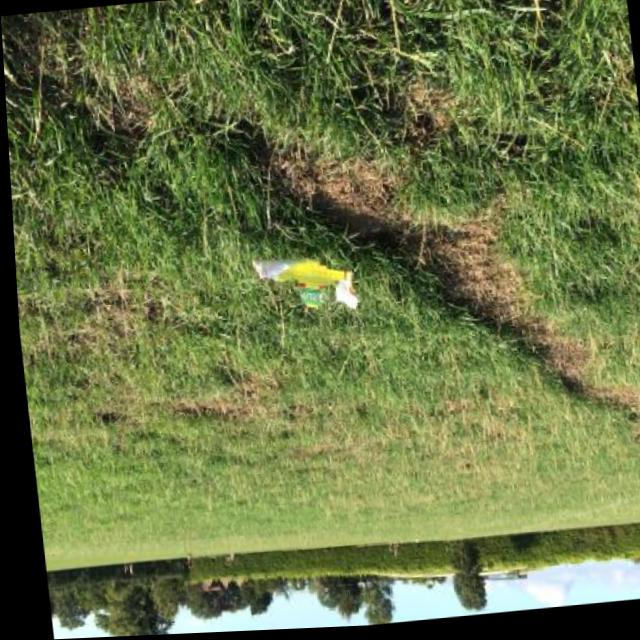plastic: (251, 249, 363, 321)
